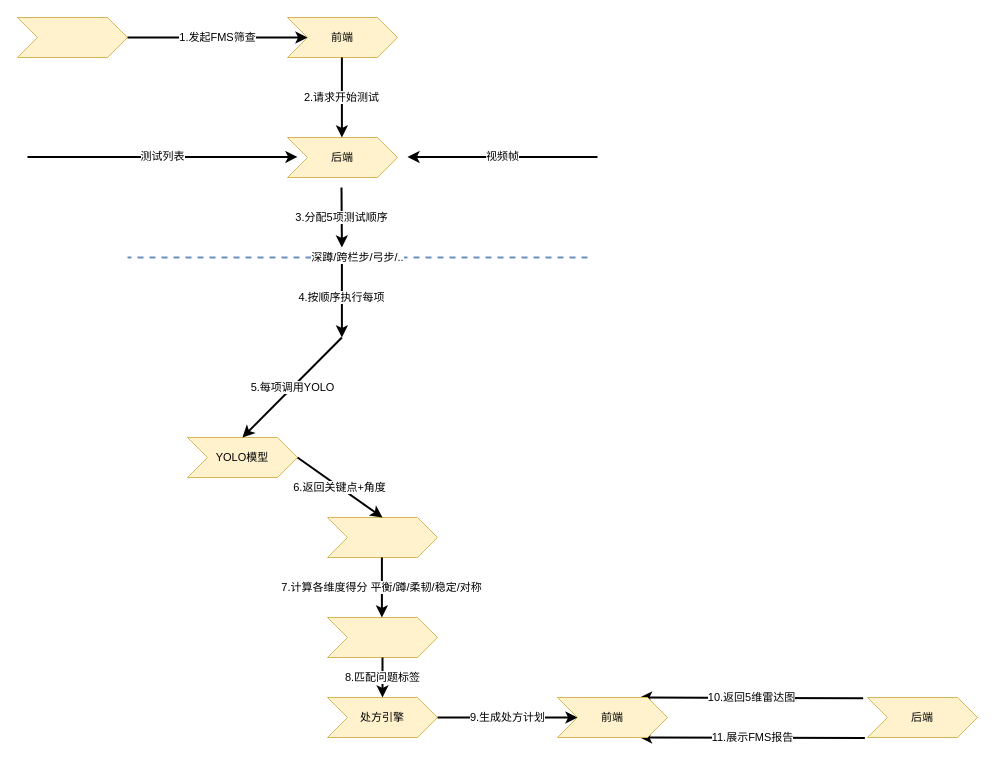
Some shapes in this 995 by 765 pixel diagram are drawn without their labels. Each missing label, with the centre of its shape:
"FMS评估模块" goes at point (382, 537).
"标签映射器" goes at point (382, 637).
"用户" goes at point (72, 37).
